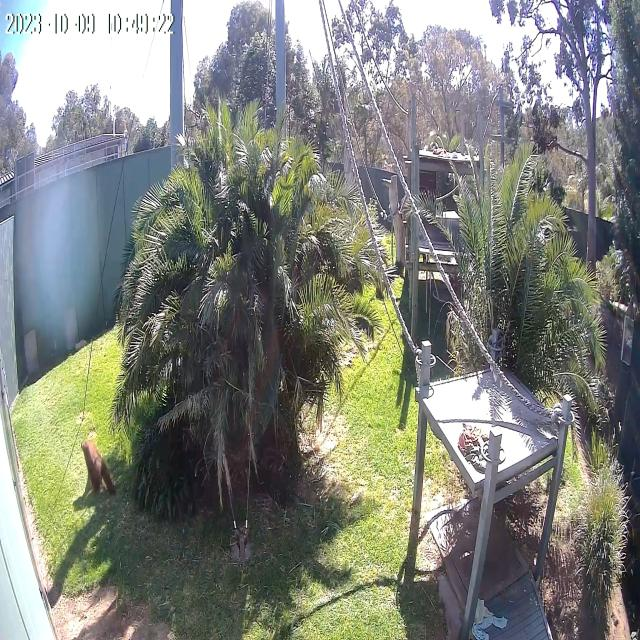orangutan: (81, 436, 115, 501)
